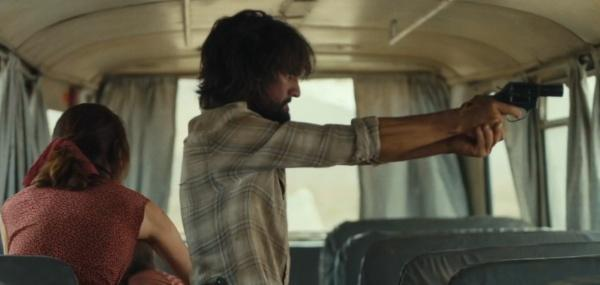Gun: (492, 81, 566, 109)
